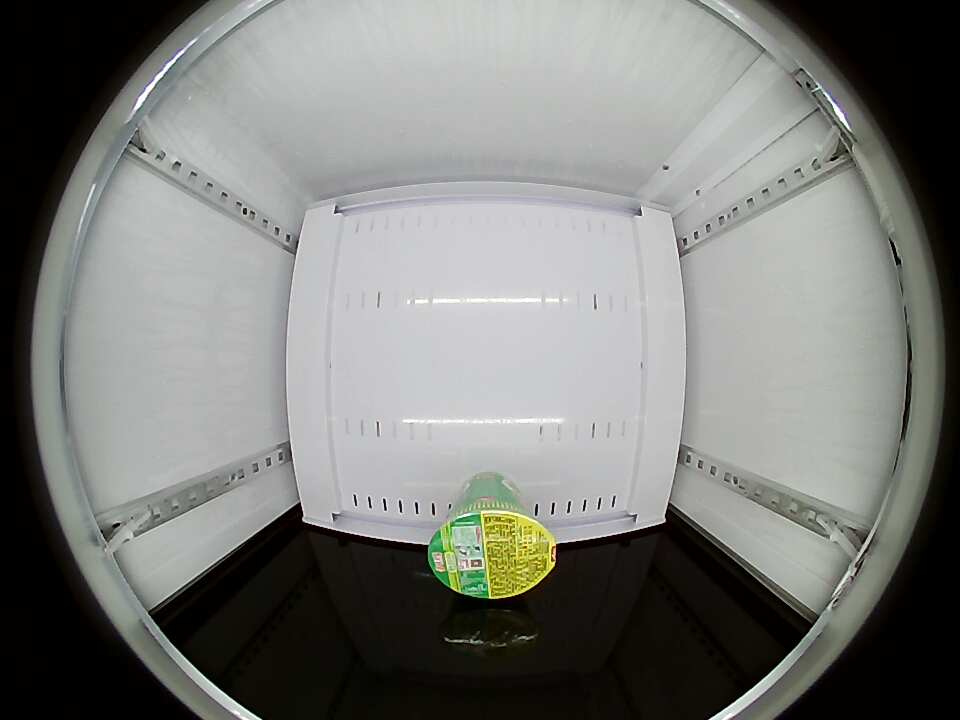heweidao2: (428, 493, 557, 599)
